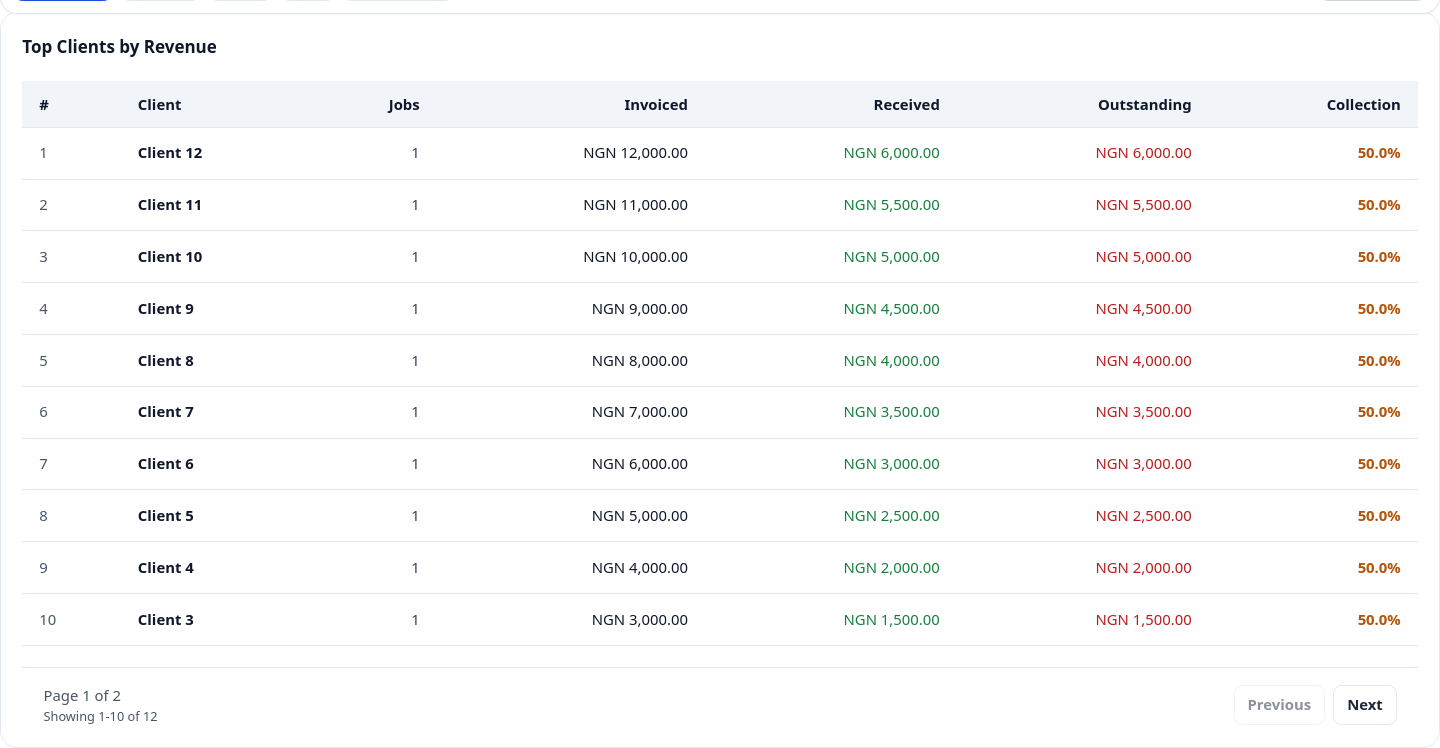
ReportPage interaction › paginates top clients table
(page scrolled)
Check: the 2nd text "Page 1 of 2" is shown, box [44,685,121,705]
Check: the text "Showing 1-10 of 12" is shown, box [44,708,158,725]
Click the 2nd button "Next": (1365, 705) [1333,685,1396,725]
(page scrolled)
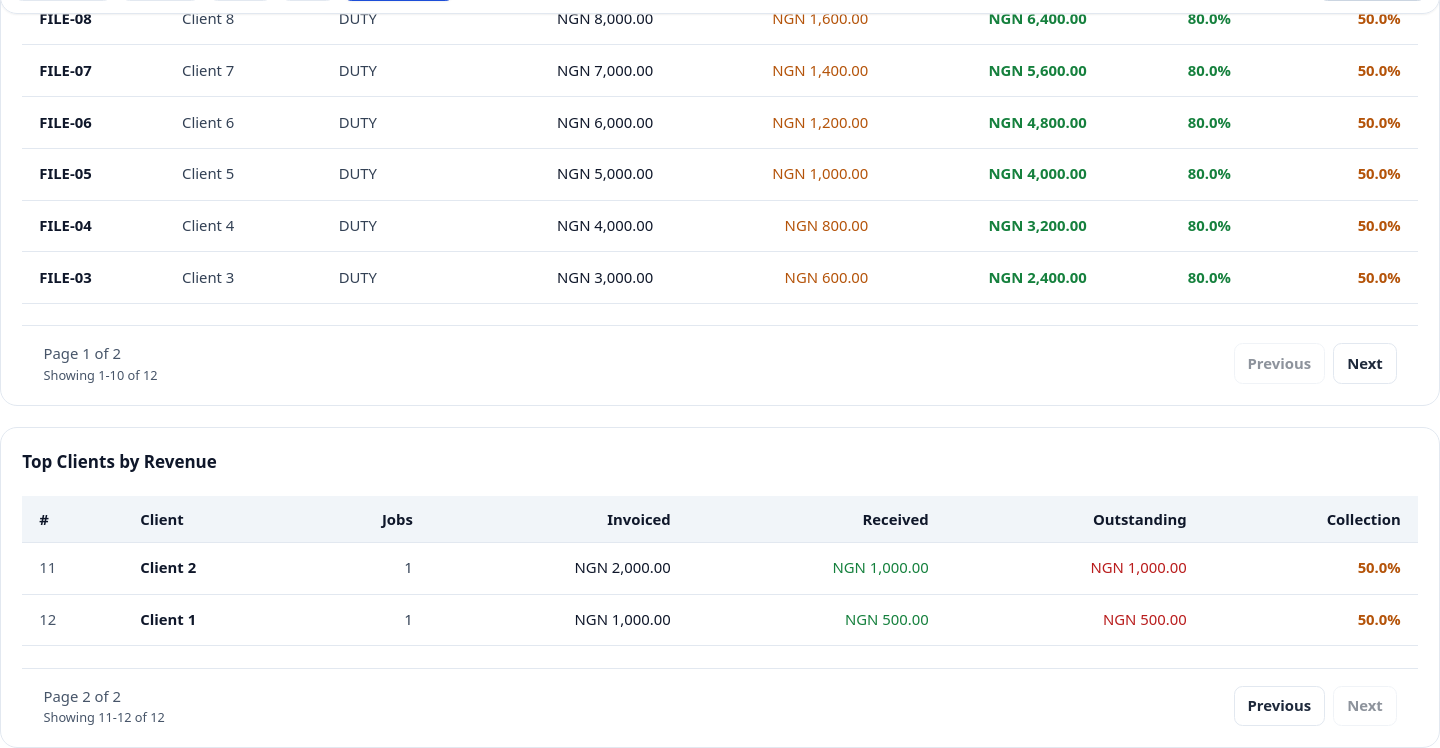
Check: the text "Page 2 of 2" is shown, box [44,686,121,706]
Check: the text "Showing 11-12 of 12" is shown, box [44,709,165,726]
